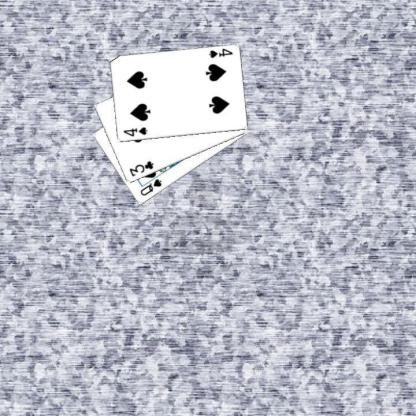3C: (126, 158, 155, 178)
4S: (206, 46, 234, 60), (121, 125, 148, 138)
QS: (137, 176, 163, 197)
